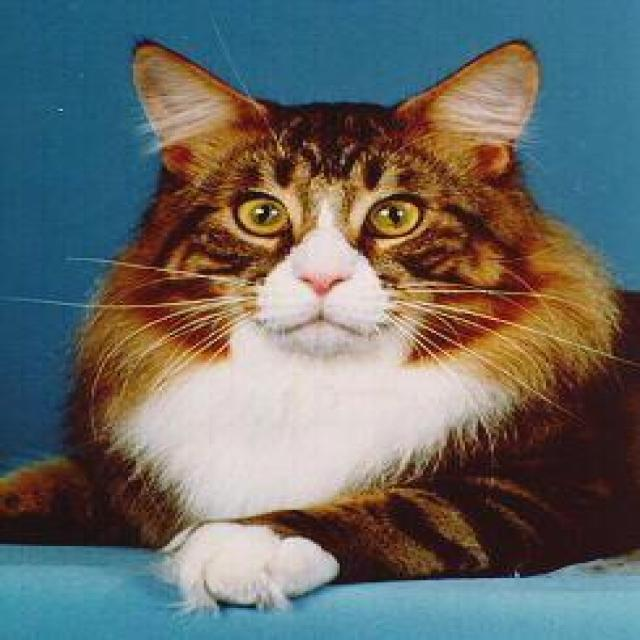Maine_Coon: (124, 29, 556, 372)
